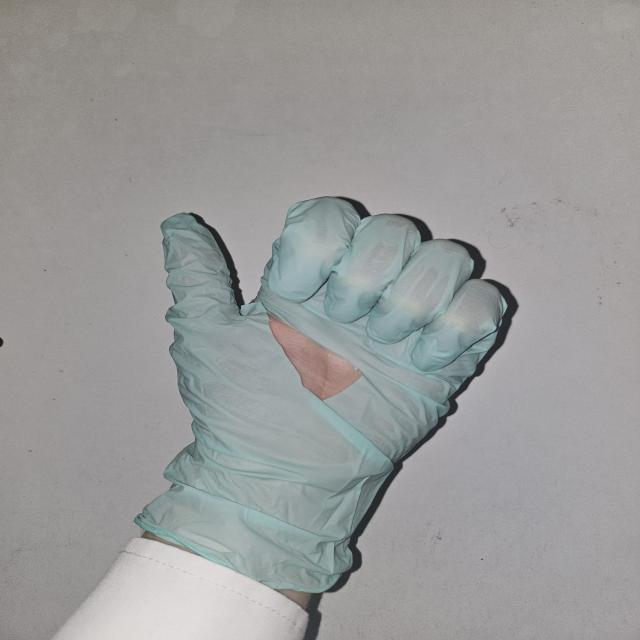gloves_damaged: (134, 193, 510, 598)
